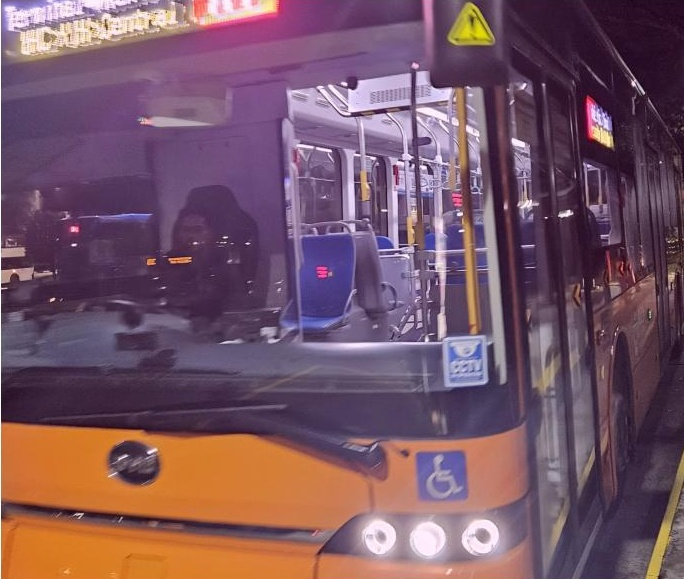bus: (192, 1, 283, 25)
